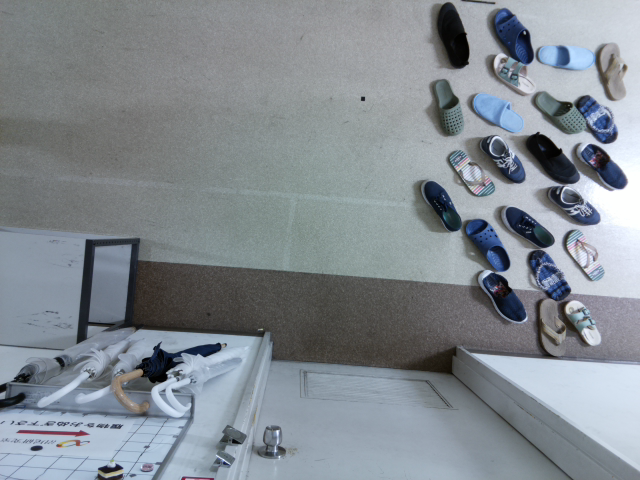Copy of Copy of Copy of Copy of Copy of Copy of Copy of shoes: (548, 185, 601, 226)
Copy of Copy of Copy of Copy of Copy of Copy of sandal: (598, 41, 627, 100)
Copy of Copy of Copy of Copy of Copy of Copy of shoes: (479, 134, 526, 183)
Copy of Copy of Copy of Copy of Copy of sandal: (575, 94, 618, 144), (492, 53, 536, 95)
Copy of Copy of Copy of Copy of Copy of shoes: (576, 141, 628, 191)
Copy of Copy of Copy of Copy of Copy of slipper: (463, 218, 510, 271)
Copy of Copy of Copy of Copy of sandal: (447, 149, 495, 196)
Copy of Copy of Copy of Copy of shoes: (475, 269, 528, 323)
Copy of Copy of Copy of Copy of slipper: (533, 90, 585, 134)
Copy of Copy of Copy of sandal: (539, 299, 566, 356)
Copy of Copy of Copy of shoes: (500, 204, 555, 248)
Copy of Copy of Copy of slipper: (471, 90, 524, 133)
Copy of Copy of sandal: (565, 299, 601, 346)
Copy of Copy of shoes: (420, 178, 463, 232)
Copy of Copy of slipper: (434, 78, 464, 135)
Copy of sandal: (528, 248, 571, 300)
Copy of shoes: (527, 131, 580, 184)
Copy of slipper: (491, 8, 534, 64)
sandal: (564, 228, 604, 281)
shoes: (436, 1, 470, 68)
slipper: (537, 43, 594, 70)
